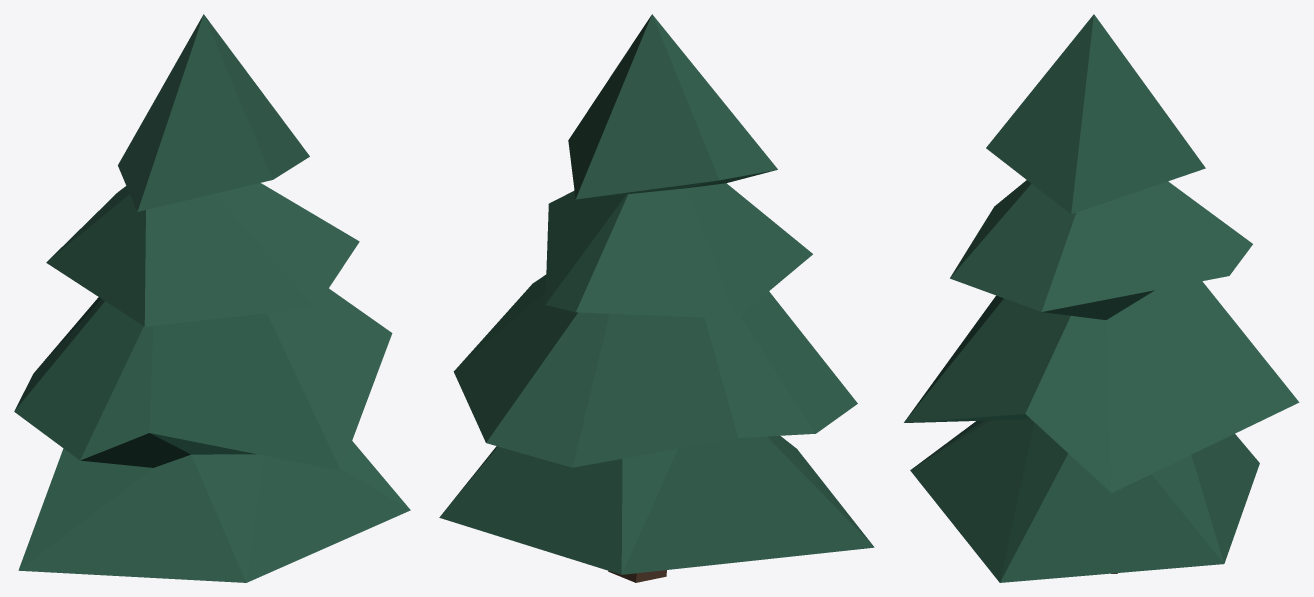
File: TreeAutumn5_Alt3.fbx
3 renders of one model, left to right at view 1: azimuth 30°, elevation 25°; view 2: azimuth 150°, elevation 25°; view 3: azimuth 270°, elevation 25°, orthographic. The views are drawn at different scales.
Parts seen in each view (by area): view 1: TreeAutumn5_Alt3; view 2: TreeAutumn5_Alt3; view 3: TreeAutumn5_Alt3.
Part boxes in pixels (left/top/right/bottom): TreeAutumn5_Alt3: left=14, top=14, right=410, bottom=582; TreeAutumn5_Alt3: left=439, top=14, right=874, bottom=582; TreeAutumn5_Alt3: left=904, top=14, right=1299, bottom=582.
Size of the model in its own units: 1.27 by 1.72 by 1.13.
